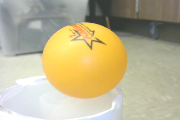PingPongBall: (42, 23, 128, 98)
